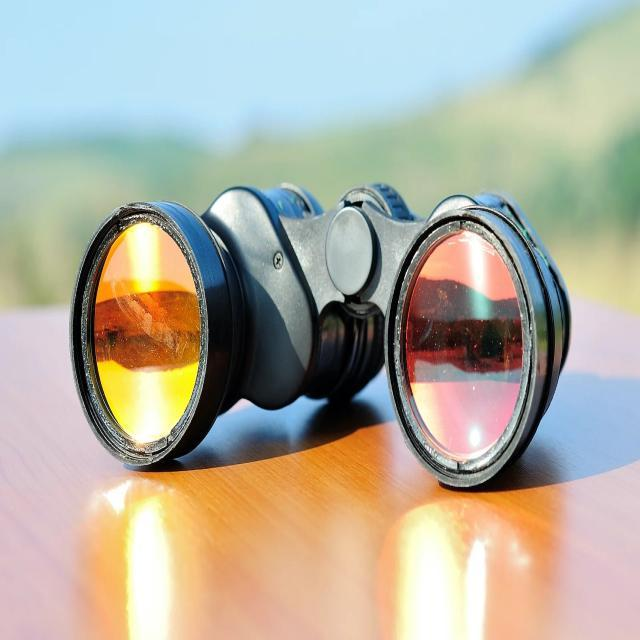Binocular: (57, 166, 579, 494)
